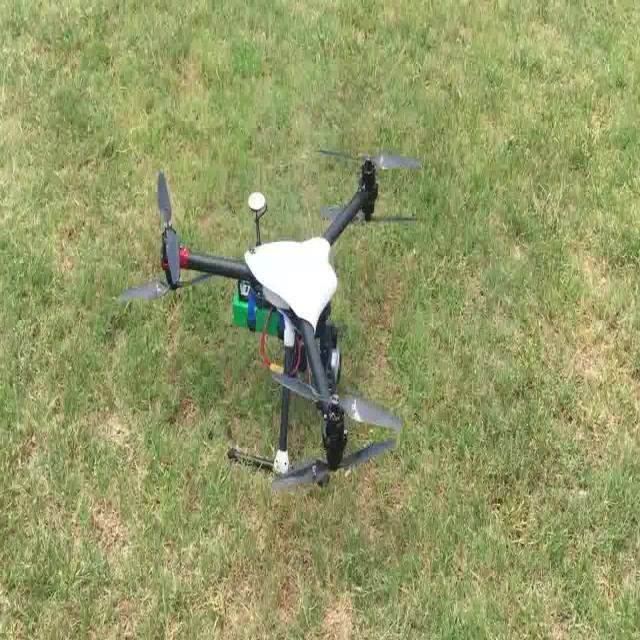drones: (103, 132, 434, 497)
